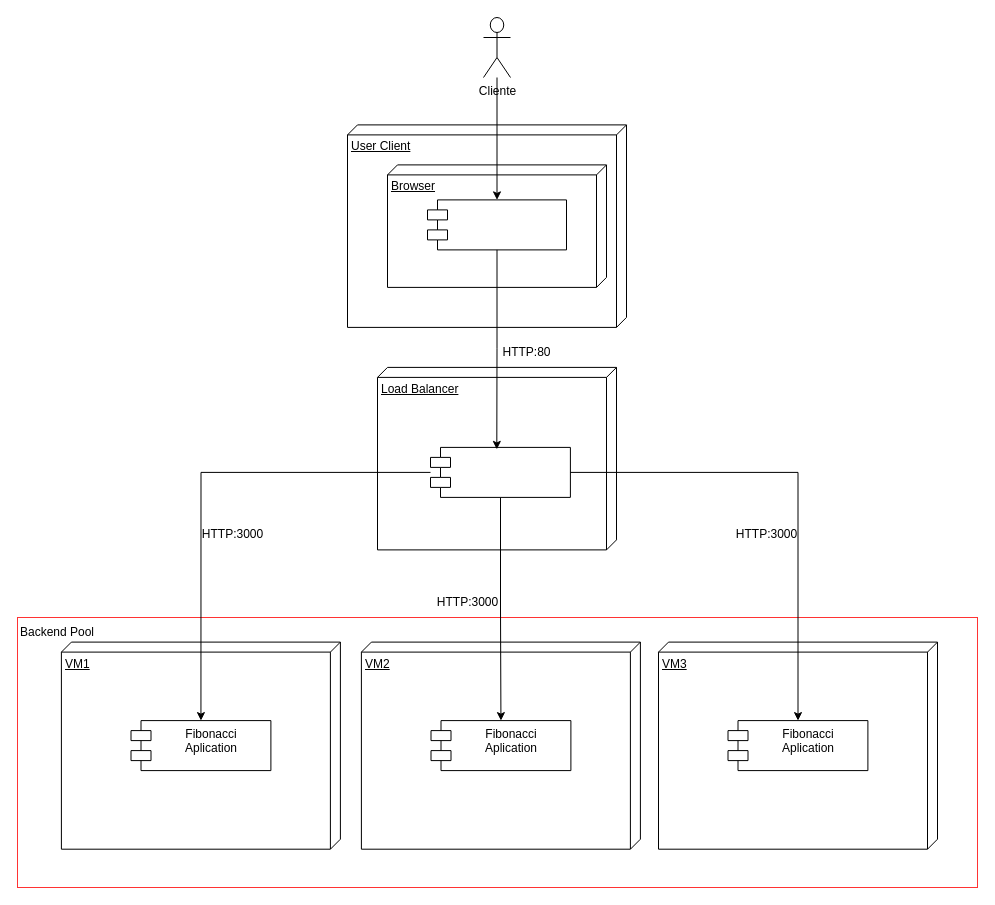
This 995x905 diagram has some shape labels left out. The shapes that lost their labels are listed below. From the top down, each one's centre as x and y in pixels, then its label:
At point 496,224: "Web Client".
At point 500,471: "Aplicación Web".
